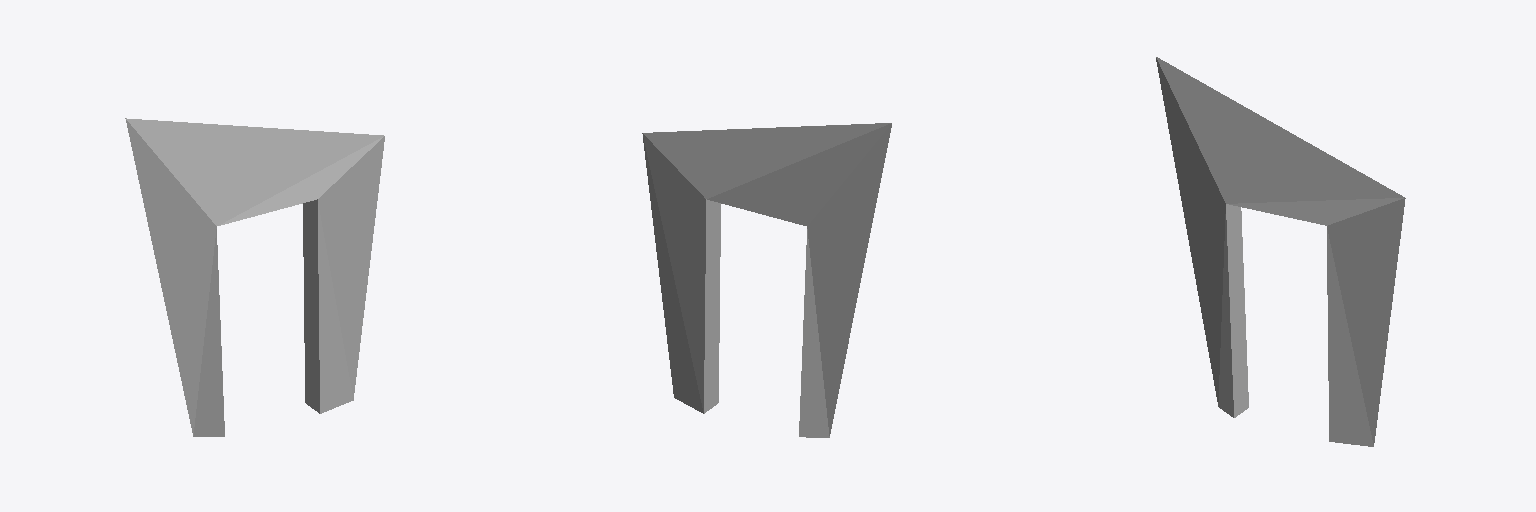
The model's file is umbral.obj.
The picture shows the model from 3 angles: view 1: azimuth 30°, elevation 25°; view 2: azimuth 150°, elevation 25°; view 3: azimuth 330°, elevation 25°; orthographic projection.
Parts seen in each view (by area): view 1: Plane; view 2: Plane; view 3: Plane.
Part boxes in pixels (bbox=[...]): Plane: bbox=[125, 118, 384, 436]; Plane: bbox=[642, 123, 891, 437]; Plane: bbox=[1156, 57, 1405, 446].
Size of the model in its own units: 3.04 by 3.79 by 0.308.